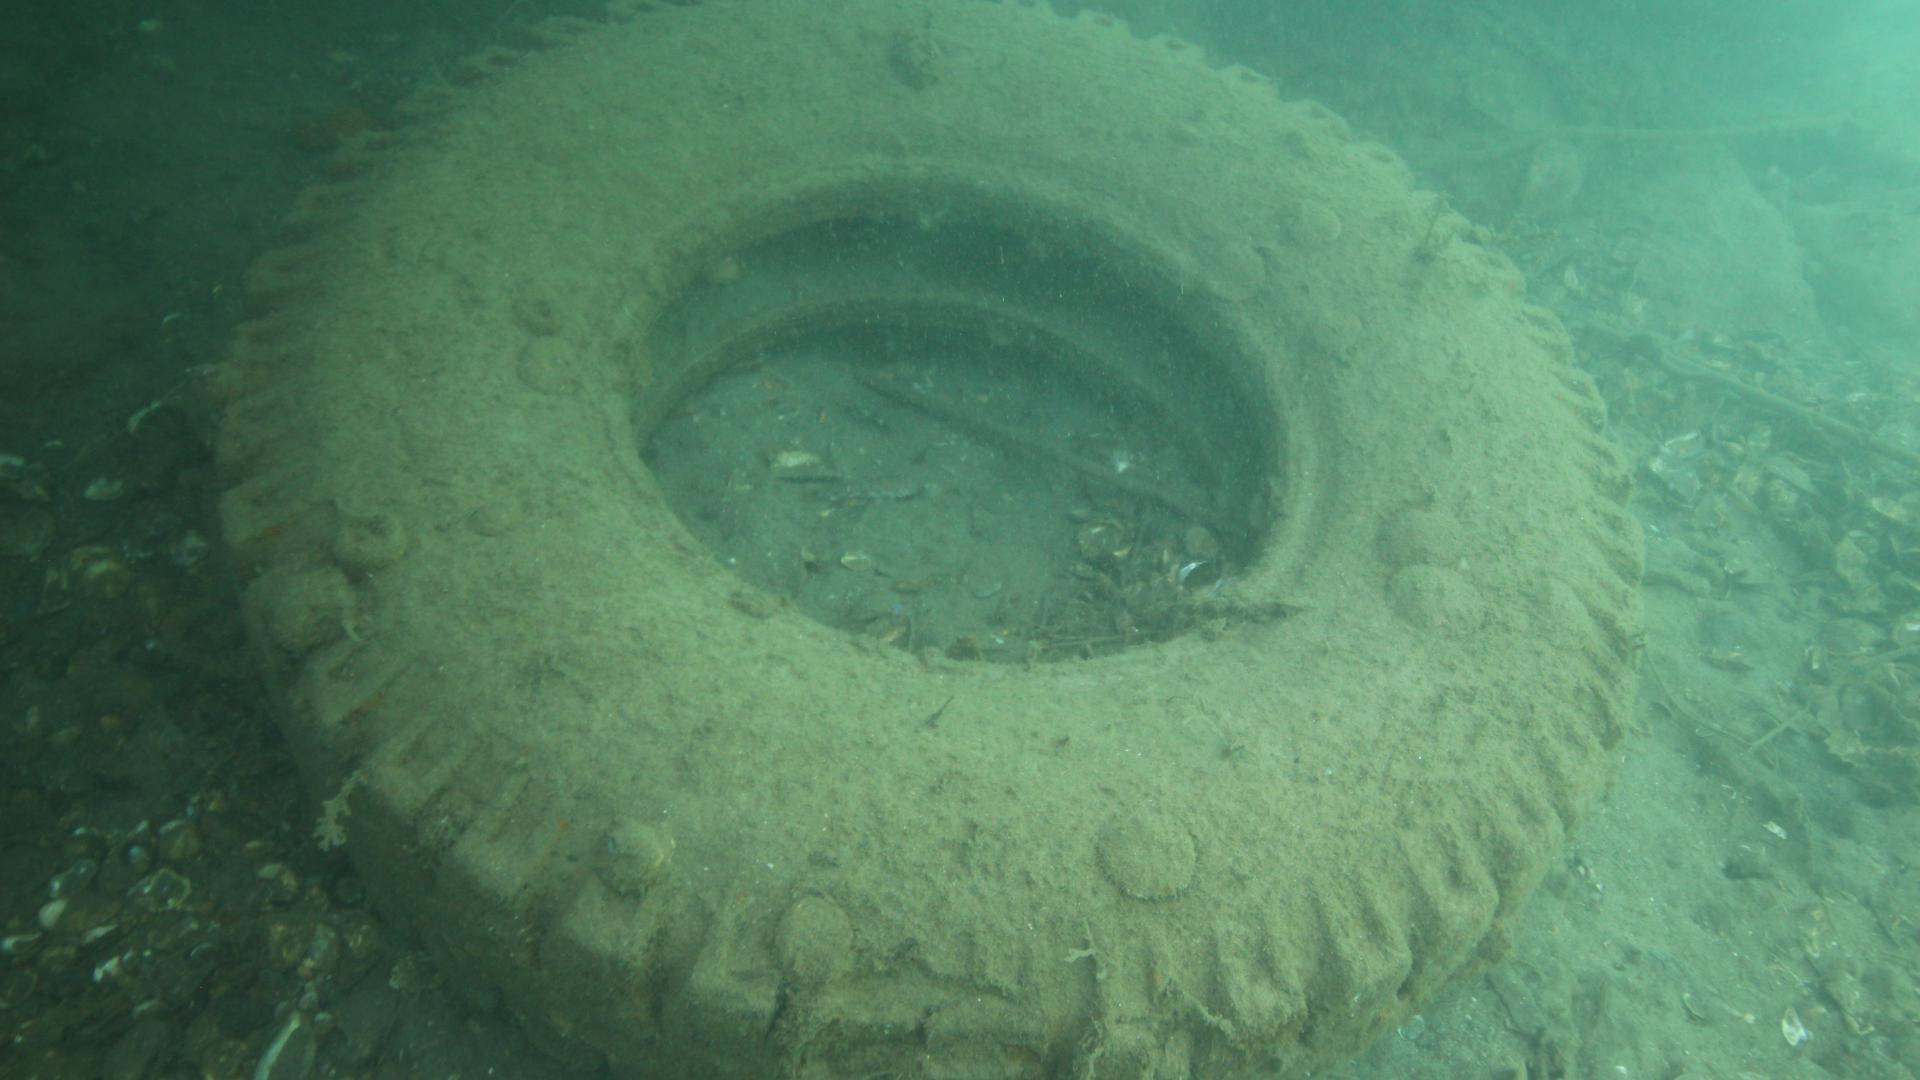tire: (225, 0, 1642, 1080)
